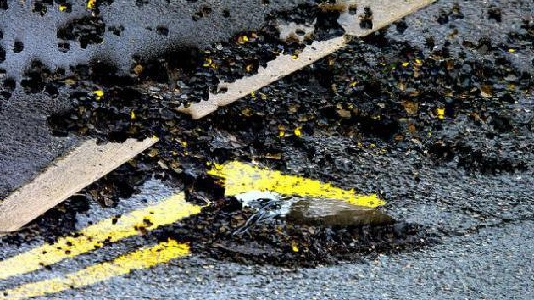pothole: (151, 197, 443, 273)
